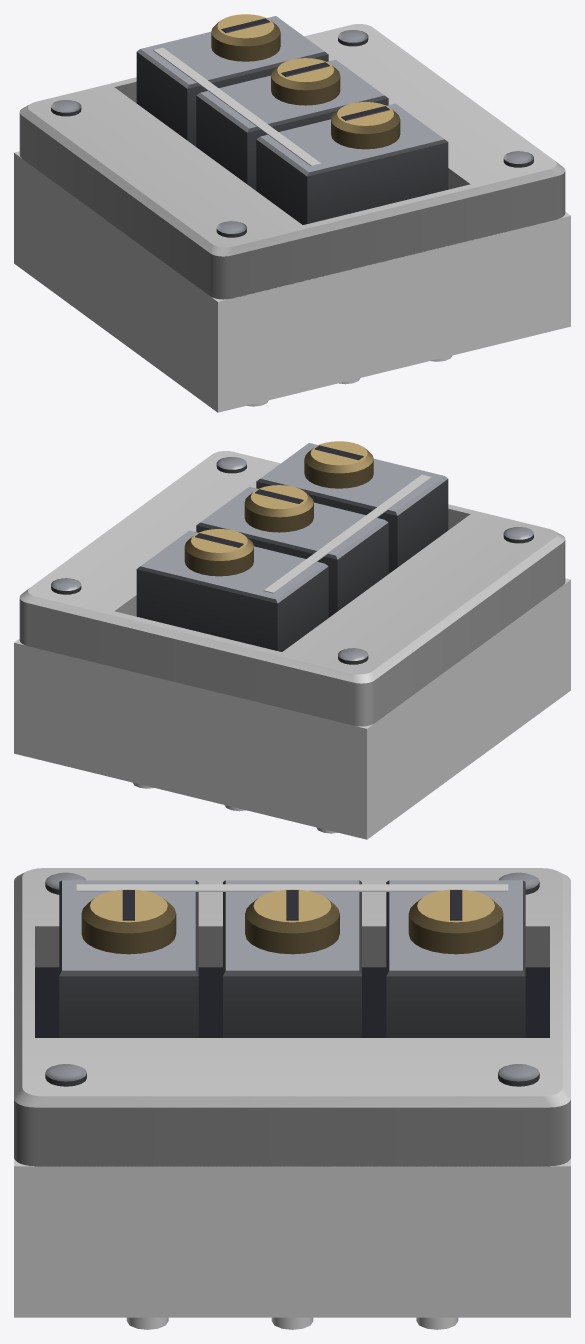
File: part_series_terminal.glb
3 views of the same model, one above another, from view 1: azimuth 30°, elevation 25°; view 2: azimuth 150°, elevation 25°; view 3: azimuth 270°, elevation 25° (orthographic). The views are drawn at different scales.
Visible parts, largest first — view 1: Gehaeuse, Plattform, Korpus, Licht; view 2: Gehaeuse, Plattform, Korpus, Licht; view 3: Plattform, Gehaeuse, Korpus, Licht, Stecker.
Part boxes in pixels (left/top/right/bottom): Gehaeuse: left=14, top=151, right=570, bottom=412; Plattform: left=19, top=24, right=565, bottom=299; Korpus: left=51, top=14, right=533, bottom=237; Licht: left=153, top=47, right=321, bottom=166; Gehaeuse: left=14, top=578, right=570, bottom=839; Plattform: left=19, top=451, right=565, bottom=726; Korpus: left=51, top=441, right=533, bottom=664; Licht: left=263, top=474, right=431, bottom=593; Plattform: left=14, top=868, right=570, bottom=1166; Gehaeuse: left=14, top=1158, right=570, bottom=1317; Korpus: left=35, top=872, right=549, bottom=1086; Licht: left=76, top=884, right=508, bottom=891; Stecker: left=126, top=1317, right=458, bottom=1329.
Size of the model in its own units: 0.8 by 0.577 by 0.8.
